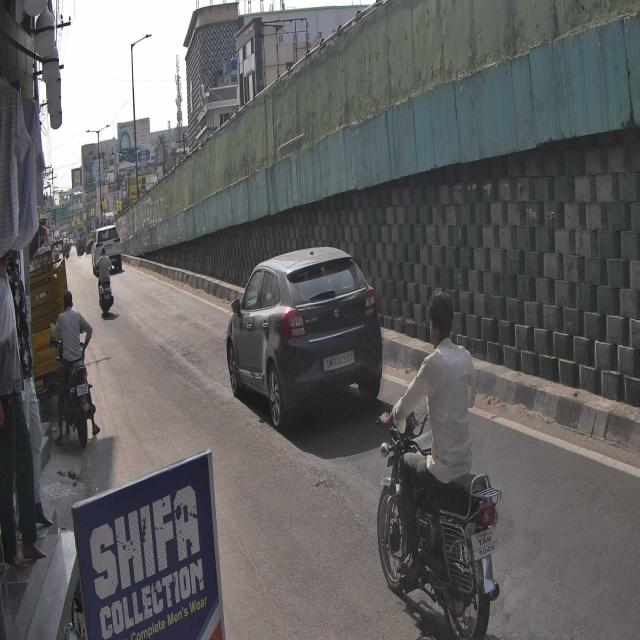single_rider: (373, 287, 504, 640)
